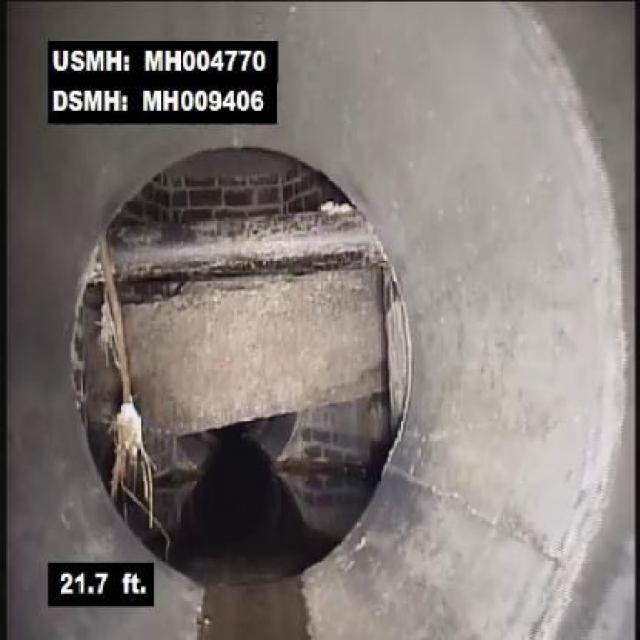Utility intrusion: (68, 280, 428, 455), (70, 192, 402, 294)
